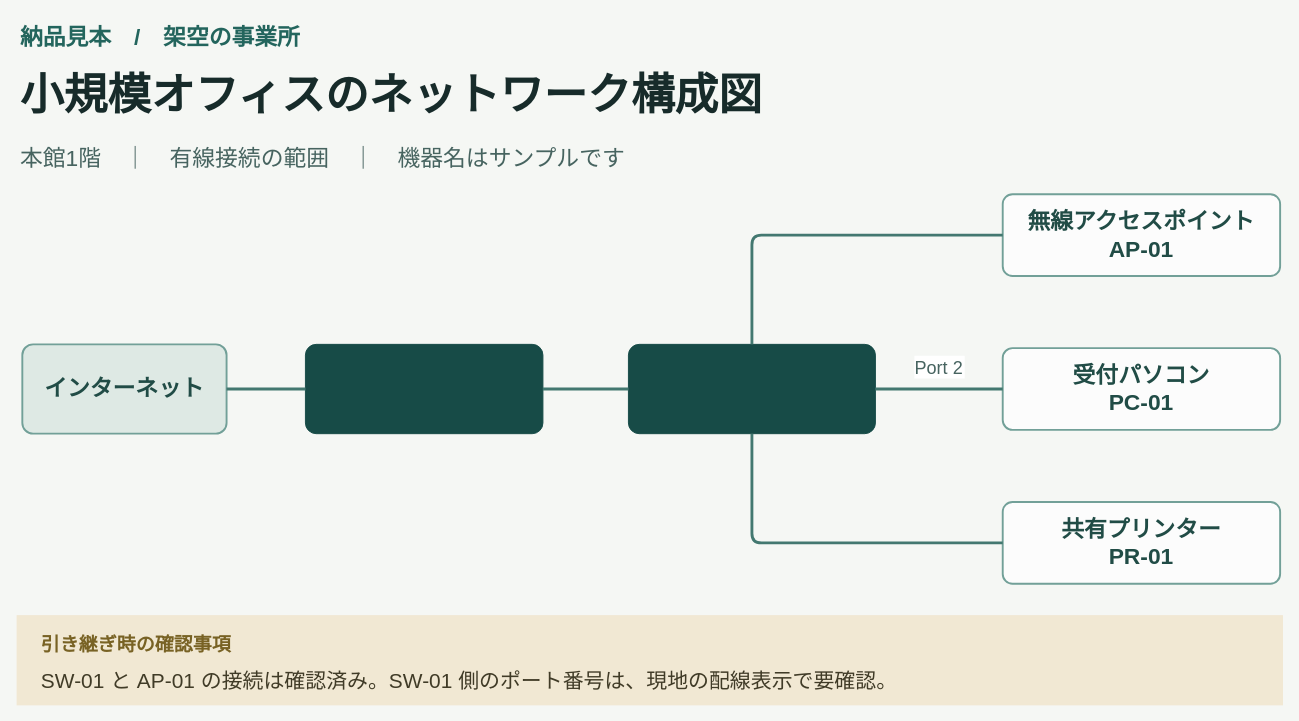
This 1299x721 diagram has some shape labels left out. The shapes that lost their labels are listed below. From the top down, each one's centre as x and y in pixels, then its label:
the point at 423,388: 業務用ルーター RT-01
the point at 751,388: フロアスイッチ SW-01
